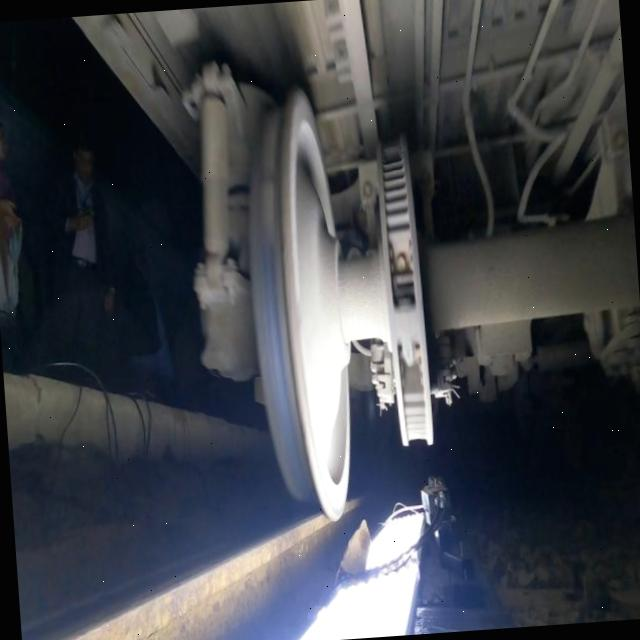Shelling: (257, 111, 280, 233)
Wheel: (248, 91, 350, 519)
